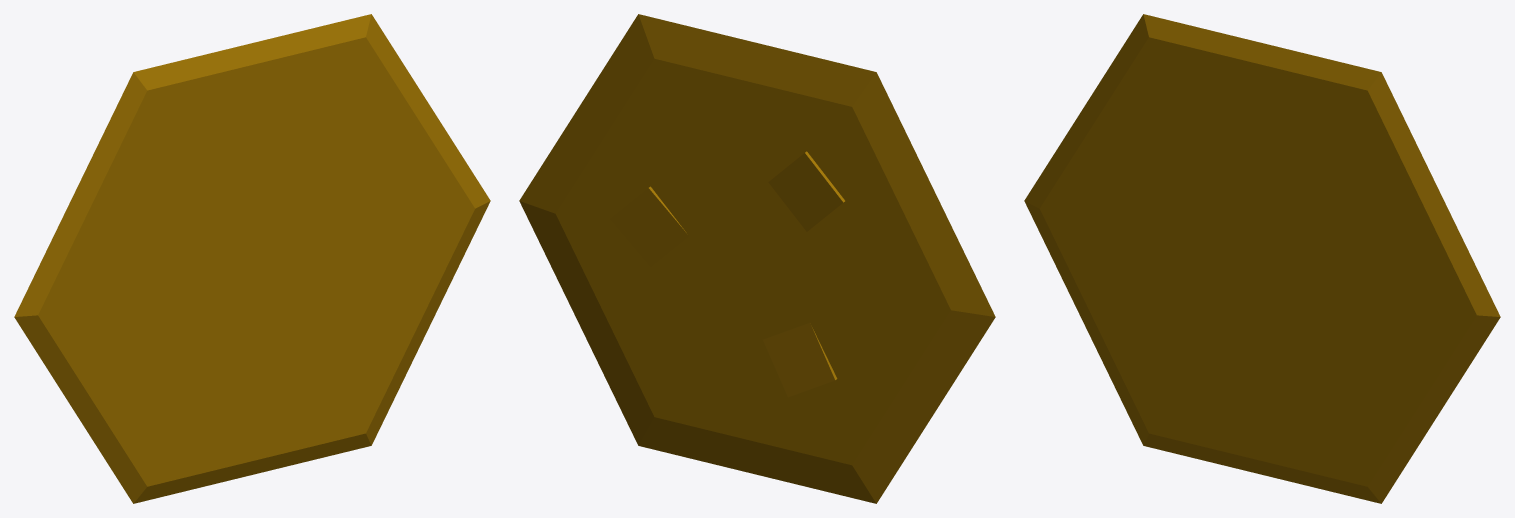
Rendered from flattened_dough_clump.obj.
The picture shows the model from 3 angles, left to right: view 1: azimuth 30°, elevation 25°; view 2: azimuth 150°, elevation 25°; view 3: azimuth 330°, elevation 25°; orthographic projection.
Parts seen in each view (by area): view 1: cookie.001; view 2: cookie.001; view 3: cookie.001.
Boxes of the visible parts, box(x1,y1,x2,y2) form: cookie.001: box(14, 14, 490, 503); cookie.001: box(519, 14, 995, 503); cookie.001: box(1024, 14, 1500, 503).
Size of the model in its own units: 0.1648 by 0.1427 by 0.00622.
